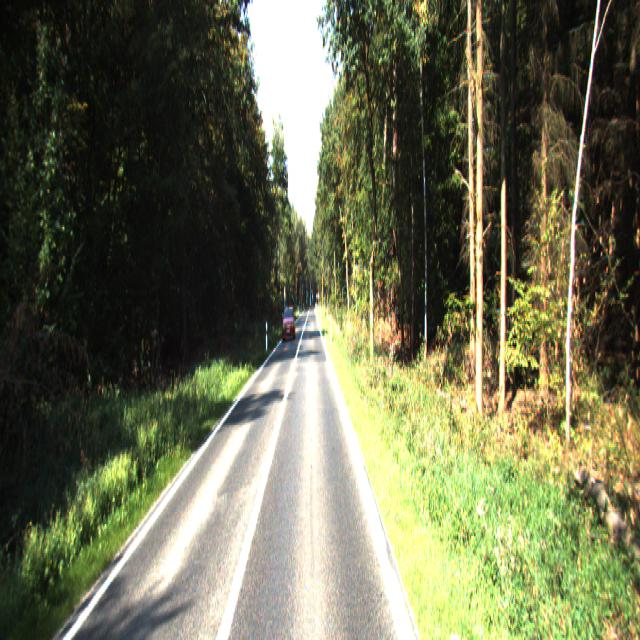Car: (282, 306, 296, 342)
